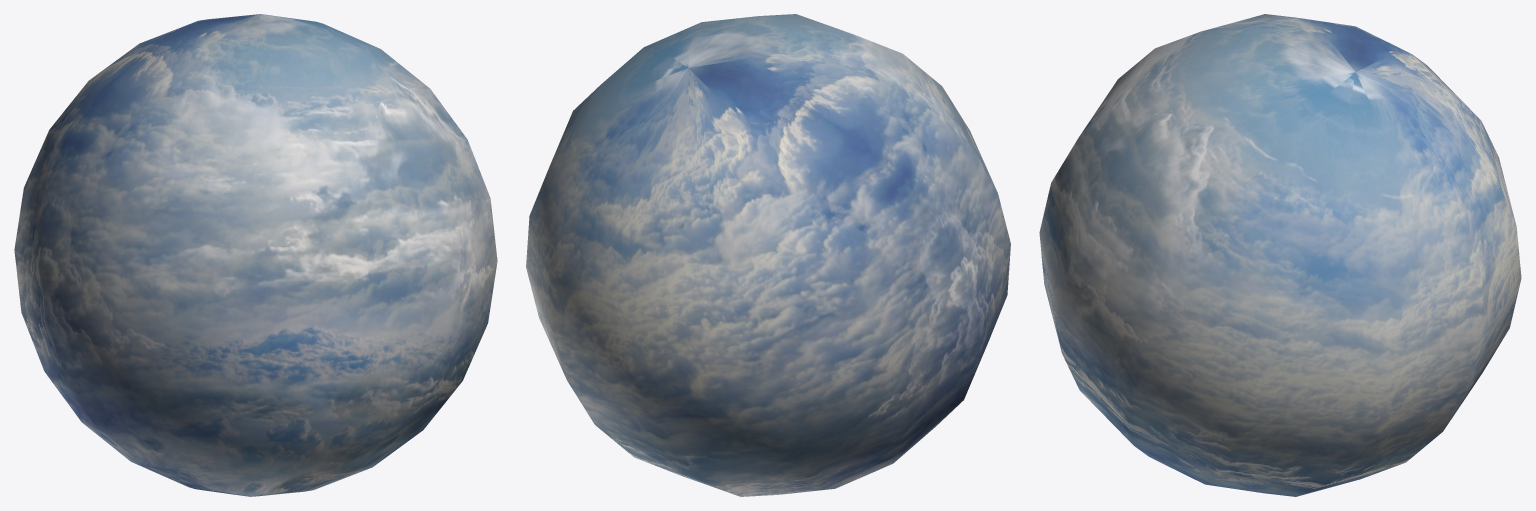
Rendered from map4.fbx.
3 views of the same model, side by side, from view 1: azimuth 30°, elevation 25°; view 2: azimuth 150°, elevation 25°; view 3: azimuth 270°, elevation 25° (orthographic).
Parts seen in each view (by area): view 1: m015Shape; view 2: m015Shape; view 3: m015Shape.
Part boxes in pixels (<box>): m015Shape: <box>14,14,497,496</box>; m015Shape: <box>526,14,1010,496</box>; m015Shape: <box>1039,14,1521,496</box>.
Bounding box in the file's own units: 65.67 × 65.34 × 65.46.
